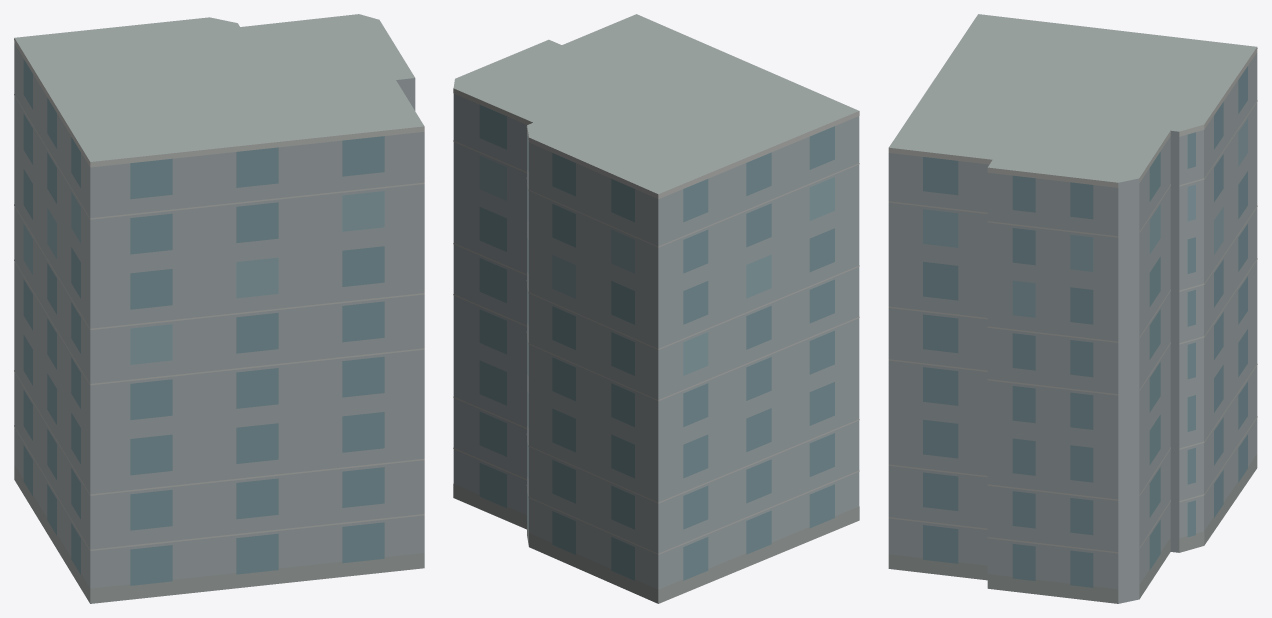
File: survey-upis-32920547.glb
The picture shows the model from 3 angles, left to right: view 1: azimuth 30°, elevation 25°; view 2: azimuth 150°, elevation 25°; view 3: azimuth 270°, elevation 25°; orthographic projection. The views are drawn at different scales.
Parts seen in each view (by area): view 1: survey-upis-32920547.tmp; view 2: survey-upis-32920547.tmp; view 3: survey-upis-32920547.tmp.
Boxes of the visible parts, x1,y1,x2,y2 form: survey-upis-32920547.tmp: (14,14,424,603); survey-upis-32920547.tmp: (453,14,859,603); survey-upis-32920547.tmp: (888,14,1257,603).
Bounding box in the file's own units: 17.12 × 19.9 × 15.81.
